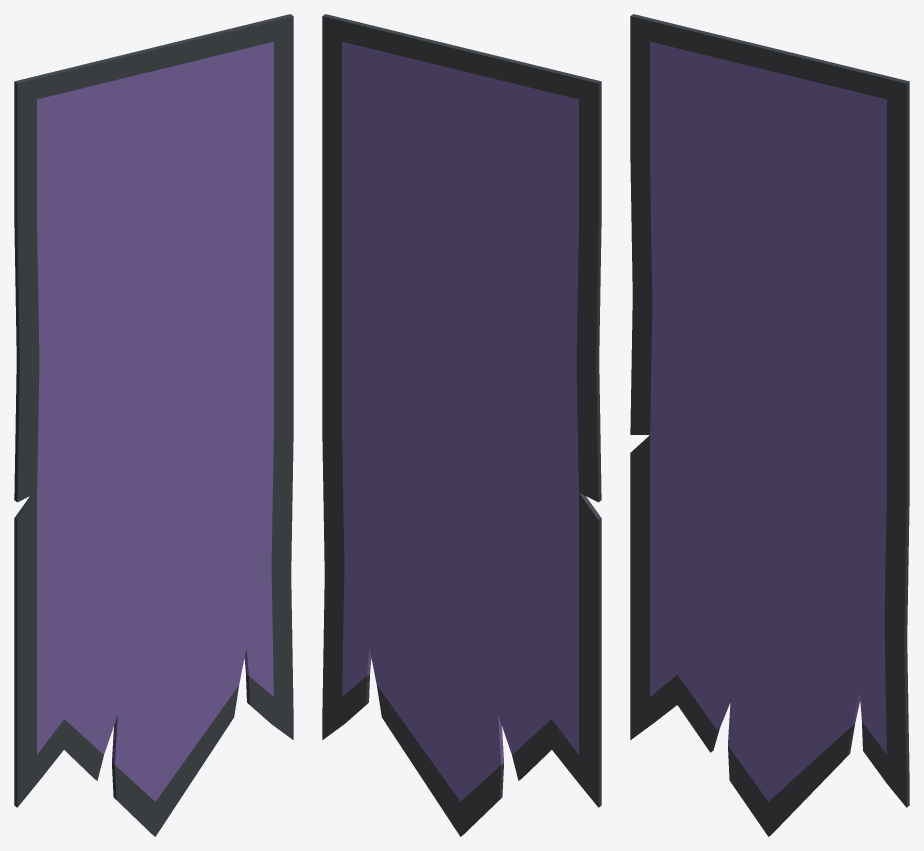
The model's file is Flag_05.glb.
3 views of the same model, side by side, from view 1: azimuth 30°, elevation 25°; view 2: azimuth 150°, elevation 25°; view 3: azimuth 330°, elevation 25° (orthographic).
Parts seen in each view (by area): view 1: Flag_05_LOD0; view 2: Flag_05_LOD0; view 3: Flag_05_LOD0.
Part boxes in pixels (bbox=[...]): Flag_05_LOD0: bbox=[14, 14, 293, 836]; Flag_05_LOD0: bbox=[322, 14, 601, 836]; Flag_05_LOD0: bbox=[630, 14, 909, 836].
Size of what is drawn, in the model's own units: 0.5296 by 1.44 by 0.01.
Materials: 1 (1 with a texture image).
